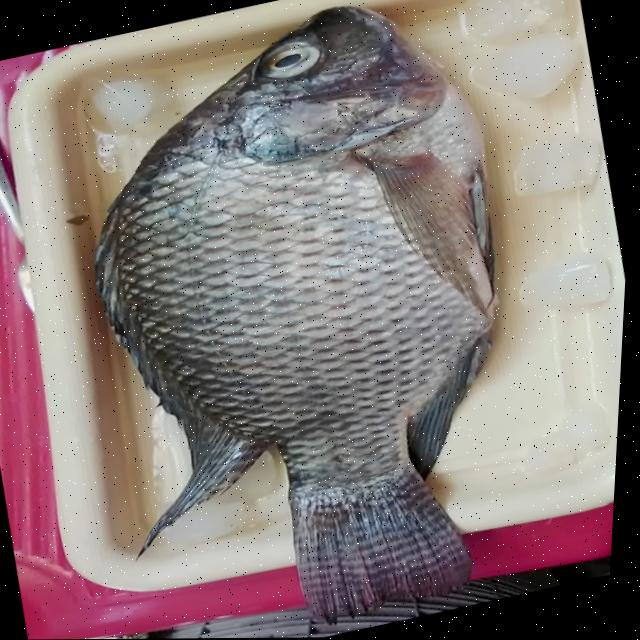Fresh: (77, 61, 530, 467), (232, 30, 332, 94)
